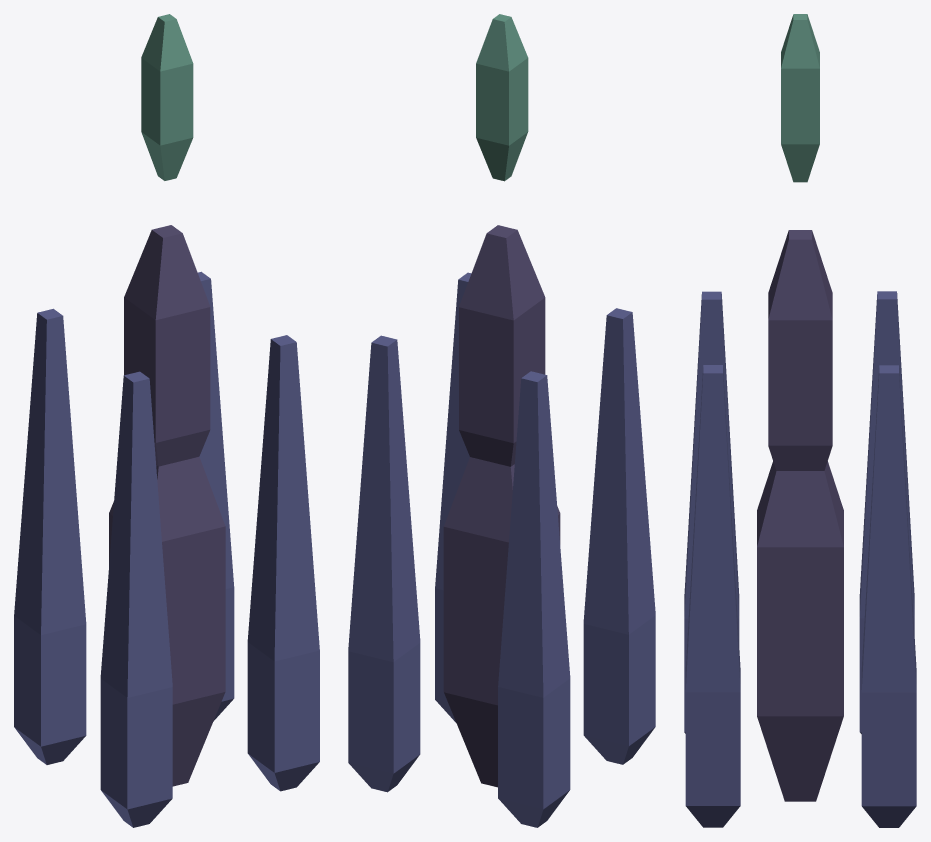
File: monolith3.glb
The picture shows the model from 3 angles, left to right: view 1: azimuth 30°, elevation 25°; view 2: azimuth 150°, elevation 25°; view 3: azimuth 270°, elevation 25°; orthographic projection. The views are drawn at different scales.
Parts seen in each view (by area): view 1: Cube.005, Cube.004, Cube.002, Cube, Cube.006, Cube.001, Cube.003; view 2: Cube.002, Cube.005, Cube.003, Cube, Cube.006, Cube.001, Cube.004; view 3: Cube, Cube.003, Cube.004, Cube.006, Cube.001, Cube.002, Cube.005.
Part boxes in pixels (left/top/right/bottom): Cube.005: left=100, top=371, right=172, bottom=827; Cube.004: left=247, top=335, right=319, bottom=791; Cube.002: left=14, top=308, right=86, bottom=764; Cube: left=109, top=457, right=225, bottom=786; Cube.006: left=124, top=225, right=210, bottom=466; Cube.001: left=141, top=14, right=193, bottom=180; Cube.003: left=198, top=271, right=234, bottom=721; Cube.002: left=498, top=371, right=570, bottom=827; Cube.005: left=583, top=308, right=655, bottom=764; Cube.003: left=348, top=335, right=420, bottom=792; Cube: left=443, top=457, right=560, bottom=787; Cube.006: left=459, top=225, right=545, bottom=466; Cube.001: left=476, top=14, right=528, bottom=181; Cube.004: left=435, top=272, right=471, bottom=722; Cube: left=757, top=461, right=843, bottom=801; Cube.003: left=861, top=365, right=916, bottom=827; Cube.004: left=685, top=365, right=740, bottom=827; Cube.006: left=768, top=230, right=832, bottom=470; Cube.001: left=781, top=14, right=819, bottom=182; Cube.002: left=859, top=291, right=914, bottom=733; Cube.005: left=684, top=291, right=739, bottom=733.
Bounding box in the file's own units: 5.26 × 19.72 × 5.34.
7 materials, 7 textured.
